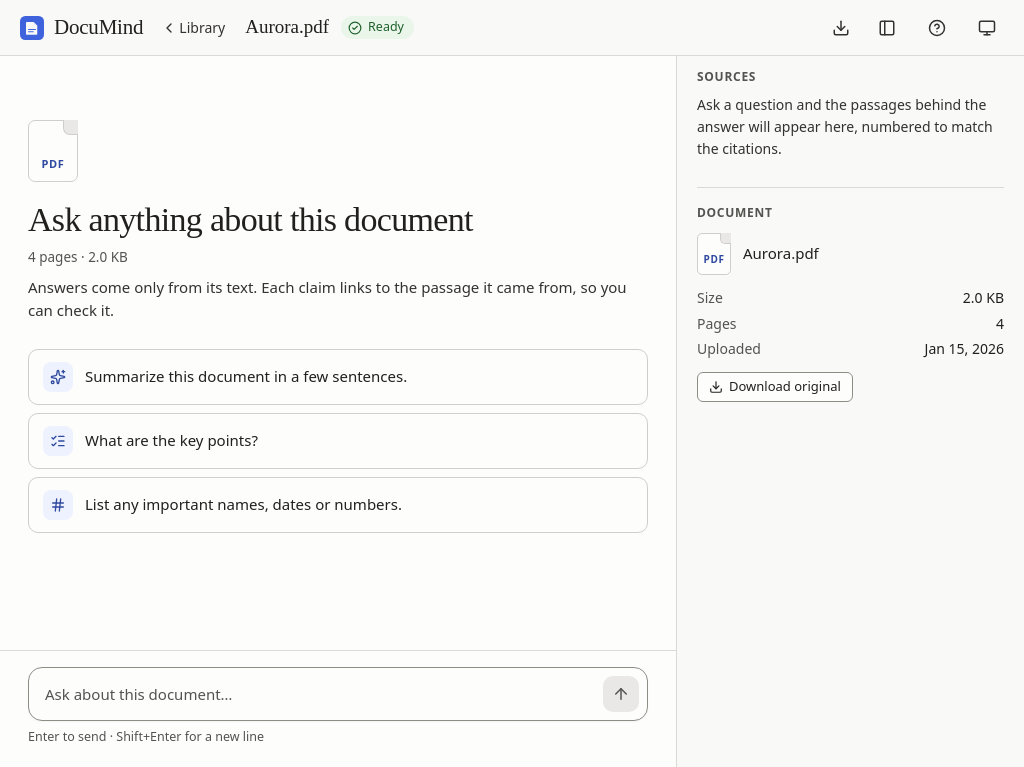
Test case: WorkspacePage › answers a question and shows the passages behind it
Type "Who leads Aurora?" into the text box named "ask a question" at (320, 694), box [45, 677, 595, 712]
Then press Enter
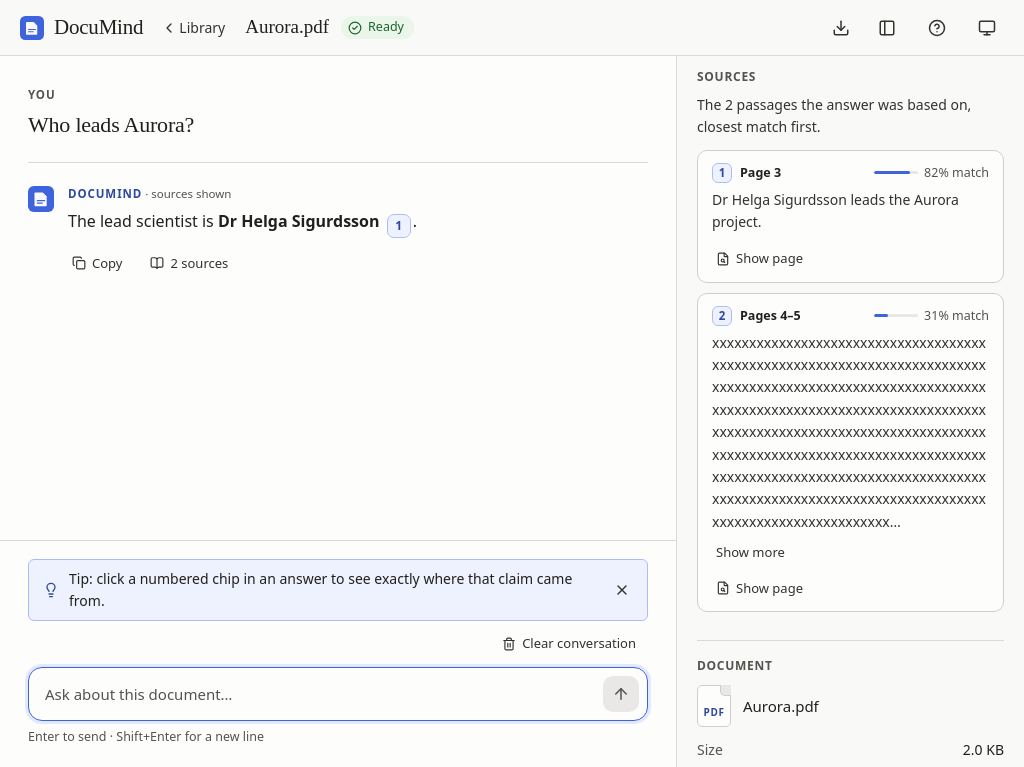
expect the text "Dr Helga Sigurdsson" is shown: met, box [218, 210, 379, 232]
expect the text "Who leads Aurora?" is shown: met, box [28, 112, 194, 137]
expect the text "Page 3" is shown: met, box [740, 164, 781, 181]
